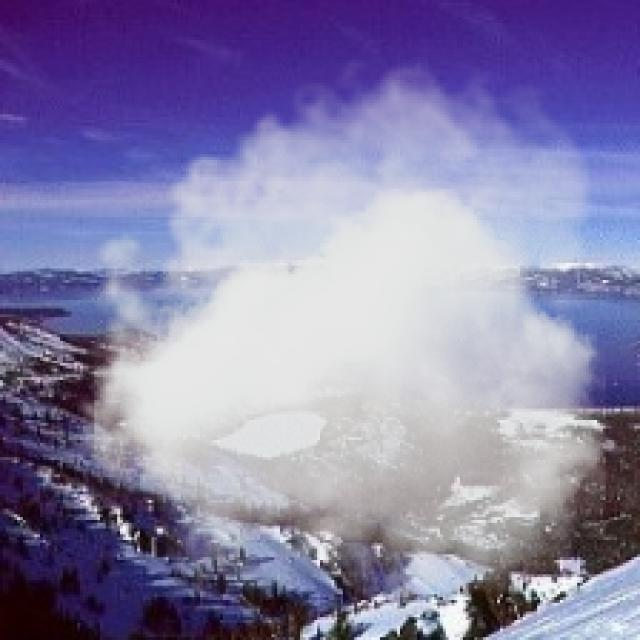Smoke: (60, 46, 606, 594)
